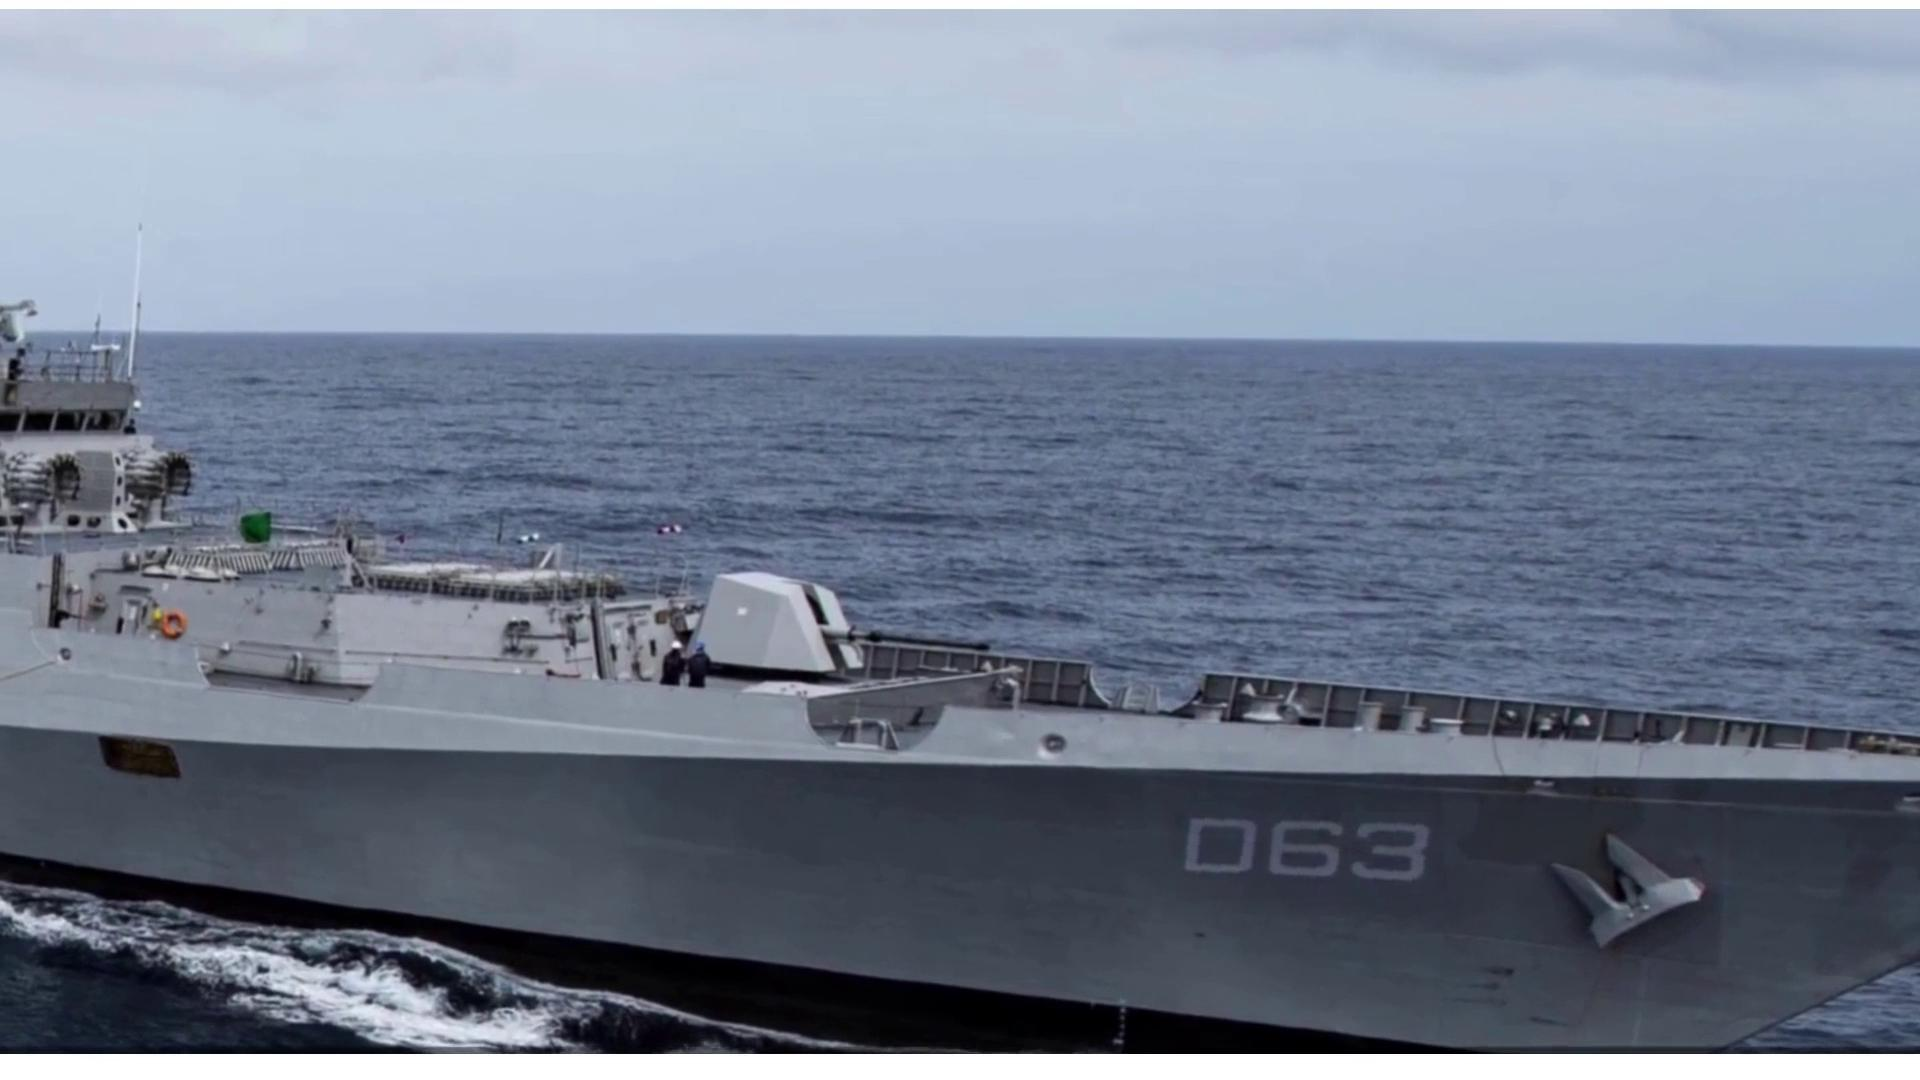OCR: (1176, 812, 1448, 910)
